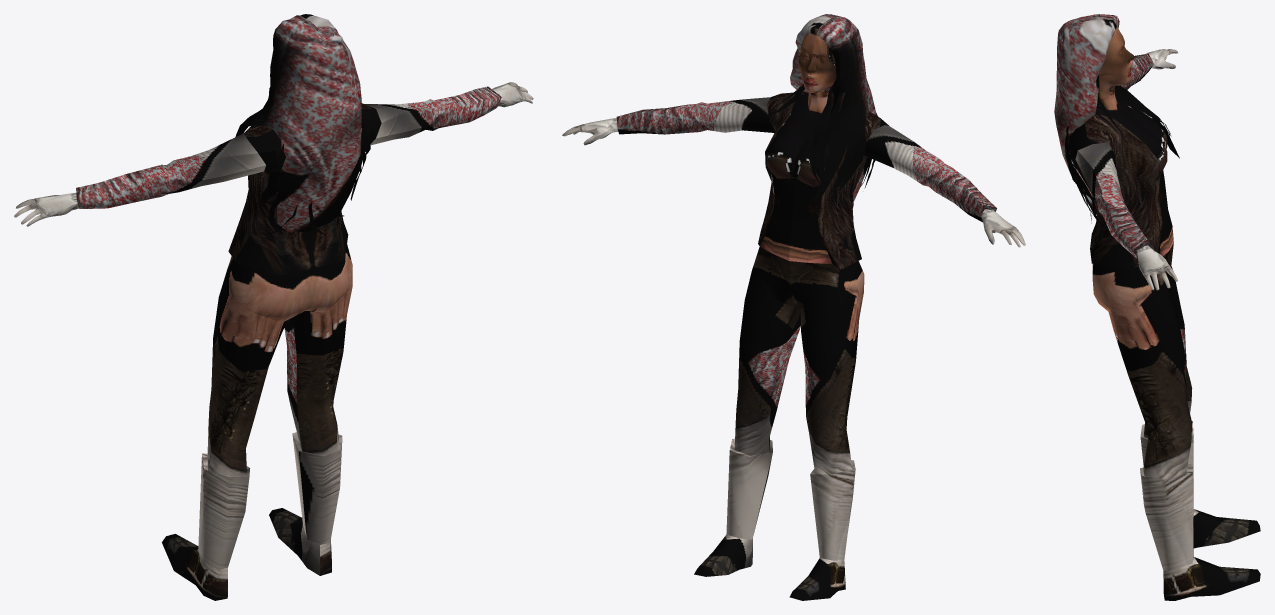
The model's file is Megan_Fox.obj.
3 renders of one model, left to right at view 1: azimuth 30°, elevation 25°; view 2: azimuth 150°, elevation 25°; view 3: azimuth 270°, elevation 25°, orthographic. The views are drawn at different scales.
Parts seen in each view (by area): view 1: Mesh_1973, Mesh_1976, Mesh_1975; view 2: Mesh_1973, Mesh_2247, Mesh_1974, Mesh_2246, Mesh_2248, Mesh_1976; view 3: Mesh_1973, Mesh_1975, Mesh_2247, Mesh_2248, Mesh_1974, Mesh_2245.
Boxes of the visible parts, x1=… form: Mesh_1973: x1=16, y1=14, x2=496, y2=600; Mesh_1976: x1=14, y1=150, x2=279, y2=226; Mesh_1975: x1=366, y1=82, x2=533, y2=152; Mesh_1973: x1=565, y1=14, x2=1025, y2=600; Mesh_2247: x1=765, y1=54, x2=836, y2=187; Mesh_1974: x1=562, y1=62, x2=840, y2=143; Mesh_2246: x1=806, y1=34, x2=835, y2=168; Mesh_2248: x1=799, y1=33, x2=821, y2=110; Mesh_1976: x1=959, y1=179, x2=1025, y2=246; Mesh_1973: x1=1054, y1=14, x2=1260, y2=600; Mesh_1975: x1=1066, y1=143, x2=1176, y2=290; Mesh_2247: x1=1096, y1=51, x2=1167, y2=174; Mesh_2248: x1=1096, y1=26, x2=1144, y2=113; Mesh_1974: x1=1087, y1=82, x2=1177, y2=289; Mesh_2245: x1=1096, y1=30, x2=1144, y2=113.
Bounding box in the file's own units: 151 × 167 × 56.27.
2 materials, 2 textured.
